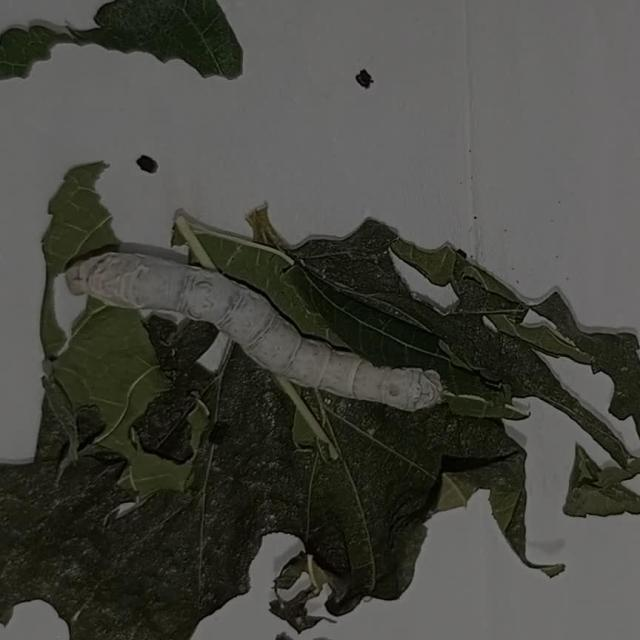Healthy: (46, 200, 452, 424)
